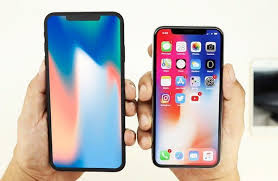iphone: (42, 7, 127, 175), (151, 24, 223, 170)
iphone10: (42, 7, 127, 175), (153, 24, 225, 170)
